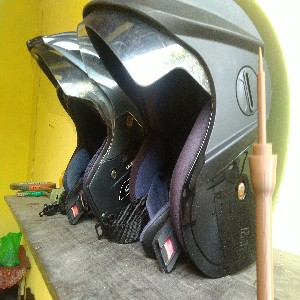solder: (248, 43, 279, 300)
